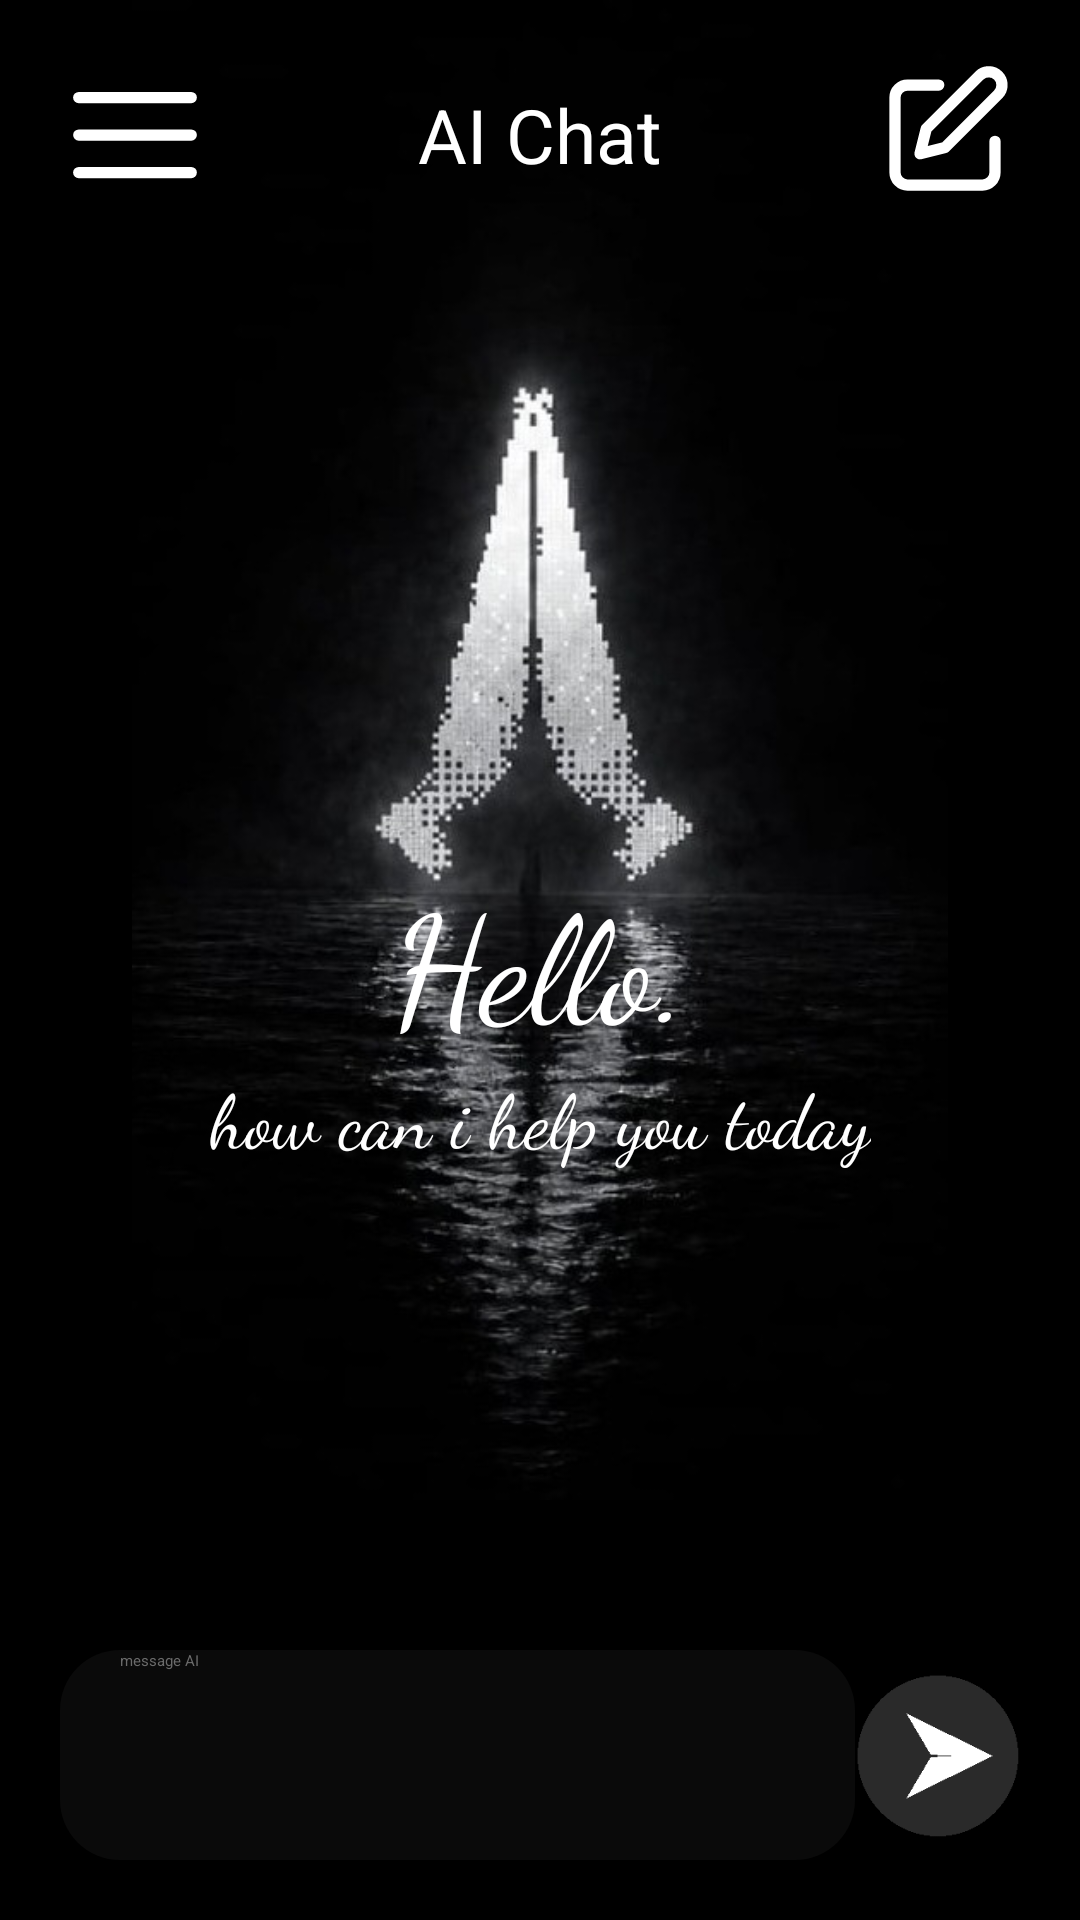

Where to tap for icons on this 1080 x 1920 app screen, as (x=x, y=y):
menu: (x=135, y=135)
send: (x=938, y=1756)
